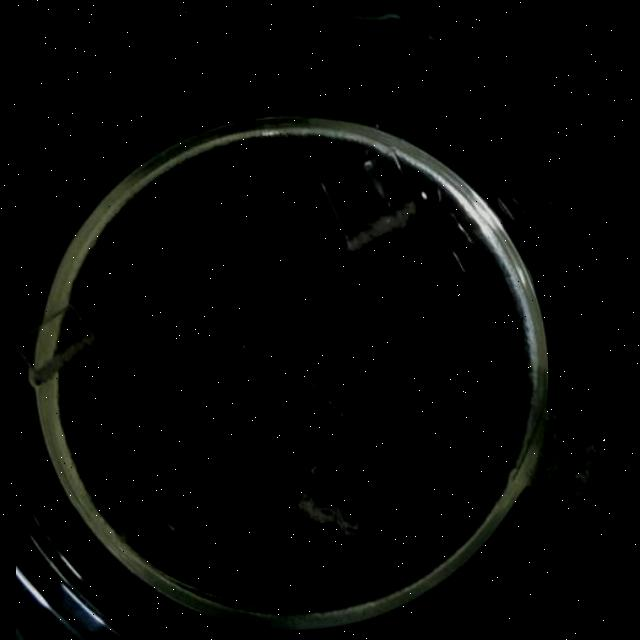Film: (246, 366, 352, 472), (314, 148, 416, 246), (509, 408, 601, 497), (16, 302, 94, 383), (294, 462, 371, 538)
